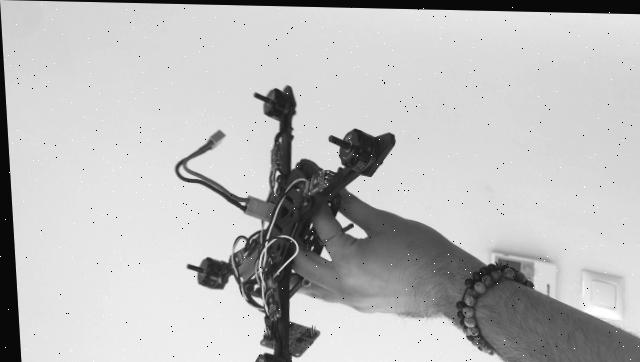drone: (147, 70, 409, 362)
